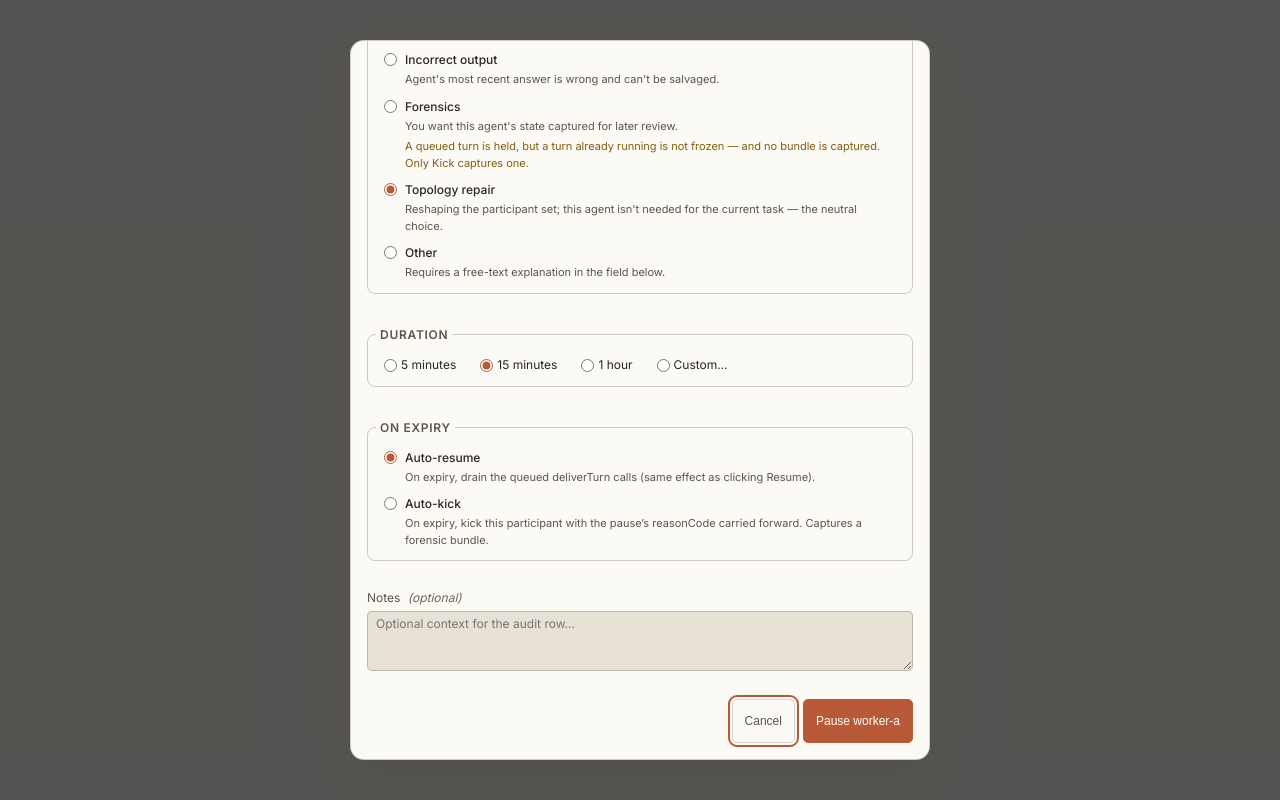
Test: PauseReasonModal — other requires text › "other" with empty notes disables submit
The width and height of the screenshot is (1280, 800).
(page scrolled)
Click the radio button labelled "Other Requires a free-text explanation in the field below.".
click(390, 253)  # box [384,246,397,259]
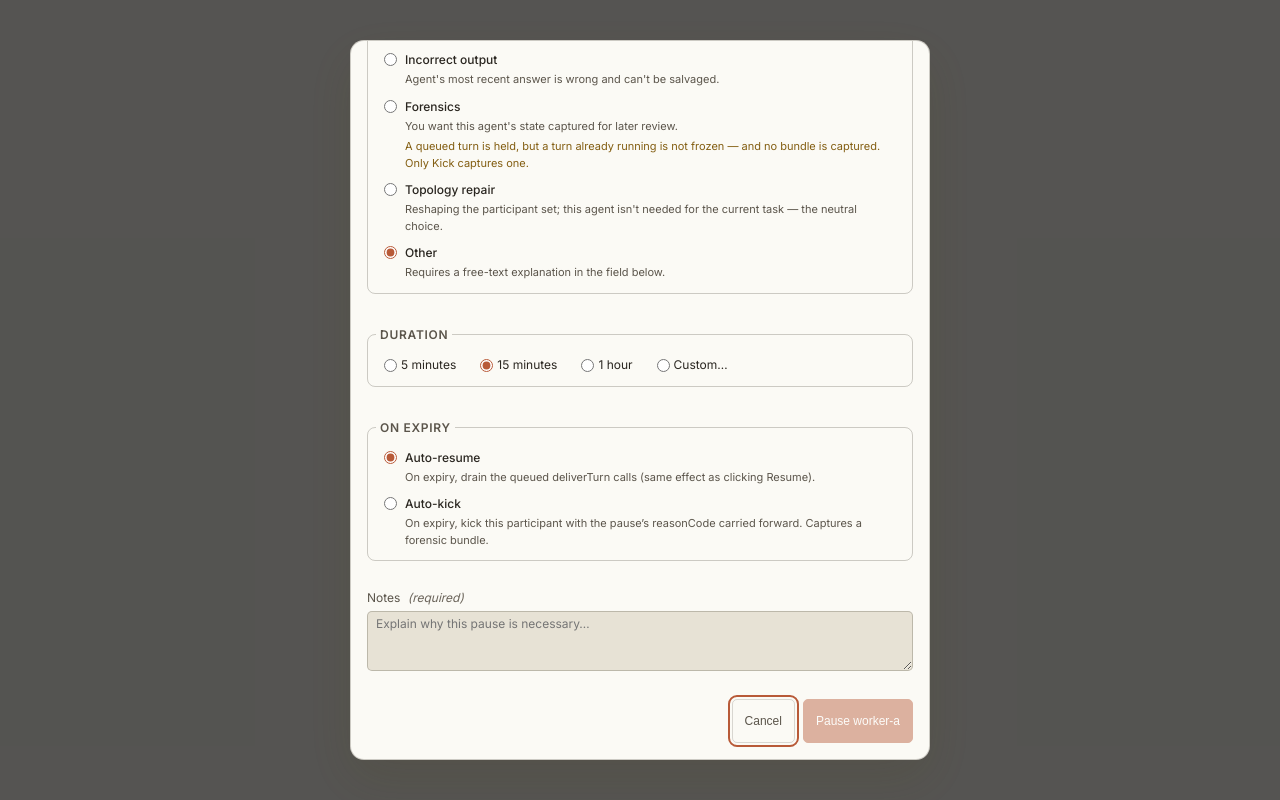
expect the button with class "gate-modal-btn-primary" is disabled: met, box [803,699,913,743]
